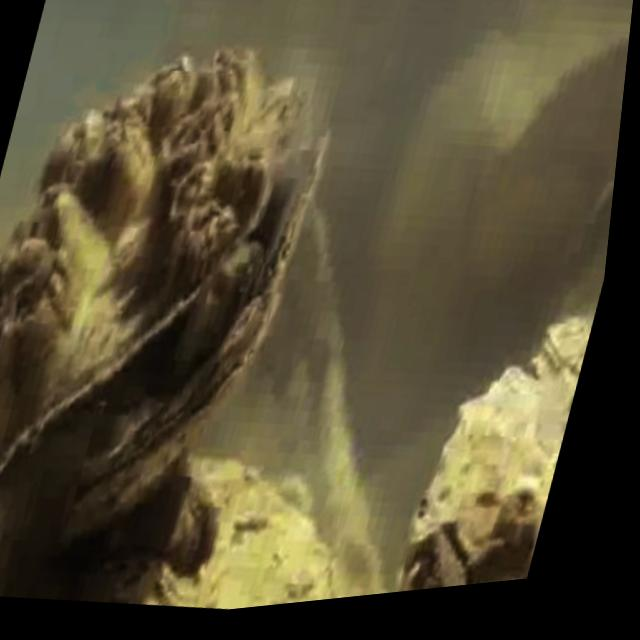Oyster-Indeterminate: (81, 459, 343, 609), (412, 364, 575, 583), (59, 471, 222, 571), (545, 313, 595, 375)
Oyster-Open: (0, 46, 322, 543), (394, 536, 470, 592)
